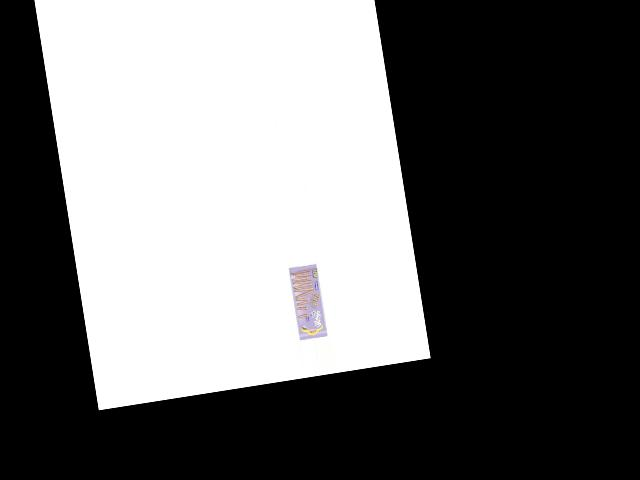chocolate: (284, 262, 328, 341)
